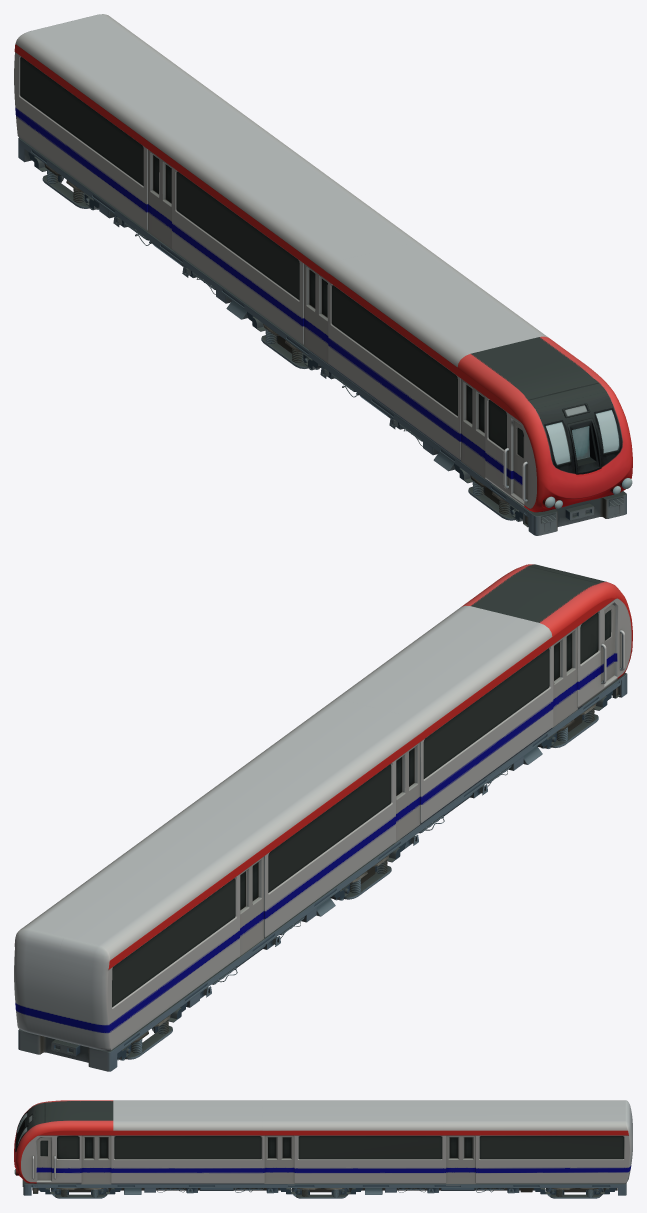
File: VLAK.glb
3 renders of one model, top to bottom at view 1: azimuth 30°, elevation 25°; view 2: azimuth 150°, elevation 25°; view 3: azimuth 270°, elevation 25°, orthographic. The views are drawn at different scales.
Visible parts, largest first — view 1: subway_train.1; view 2: subway_train.1; view 3: subway_train.1.
Part boxes in pixels (x1=…): subway_train.1: x1=14, y1=14, x2=632, y2=535; subway_train.1: x1=14, y1=564, x2=632, y2=1071; subway_train.1: x1=14, y1=1100, x2=632, y2=1198.
Bounding box in the file's own units: 1.98 × 2.46 × 17.85.
1 material, 1 textured.
